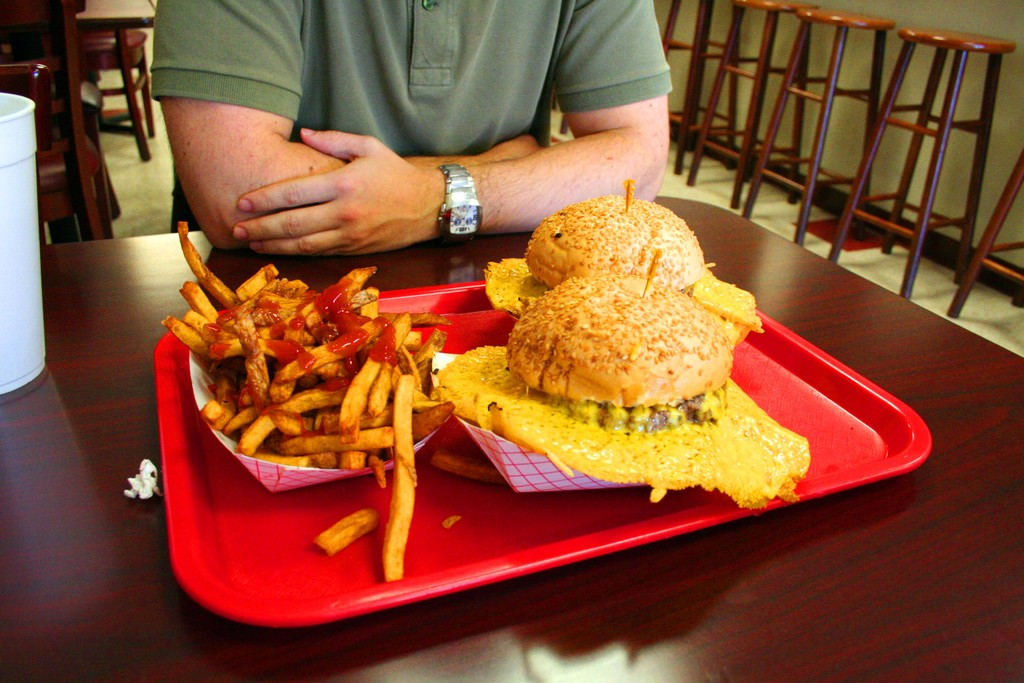French fries: (161, 212, 458, 577)
